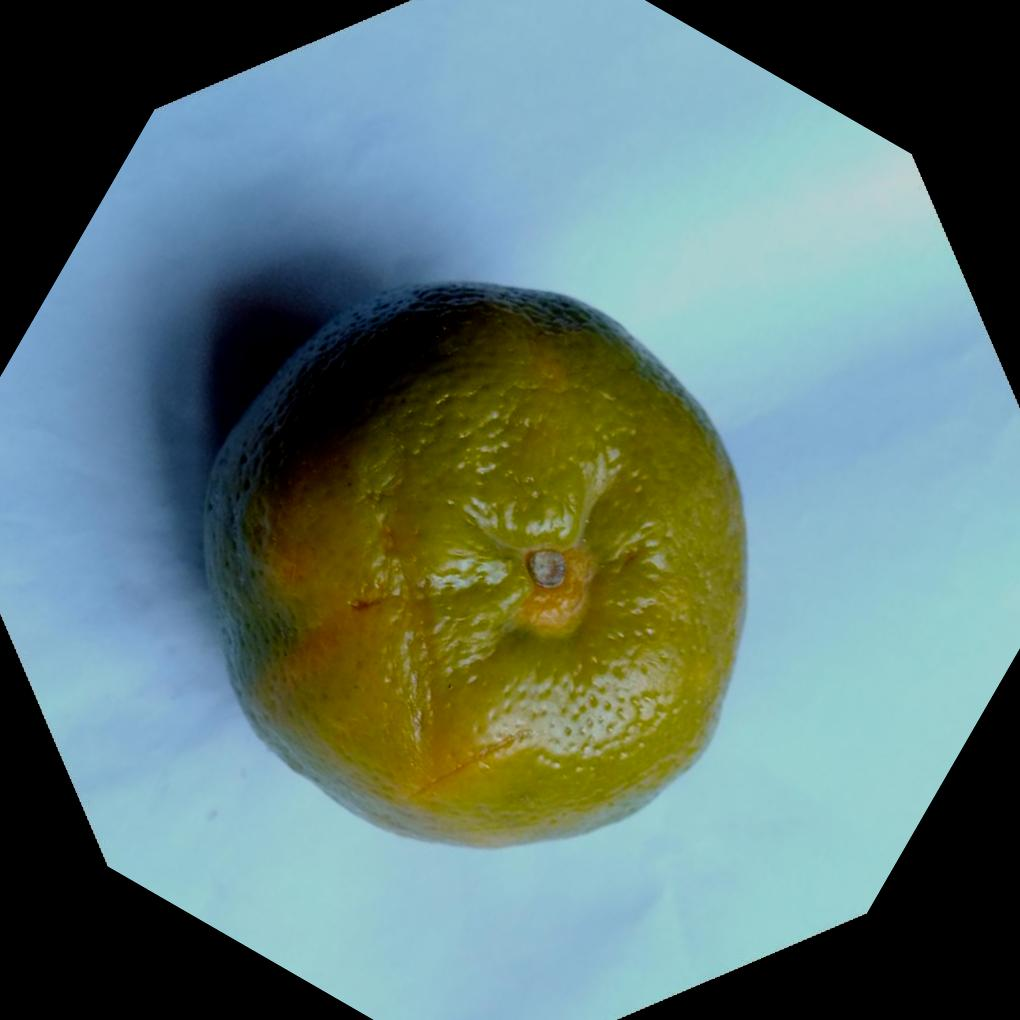FreshGuava: (200, 278, 750, 848)
